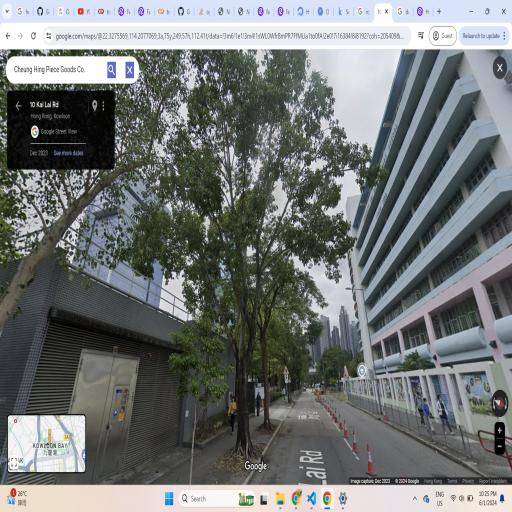Roads: (250, 383, 497, 470)
Trees: (141, 46, 351, 465)
